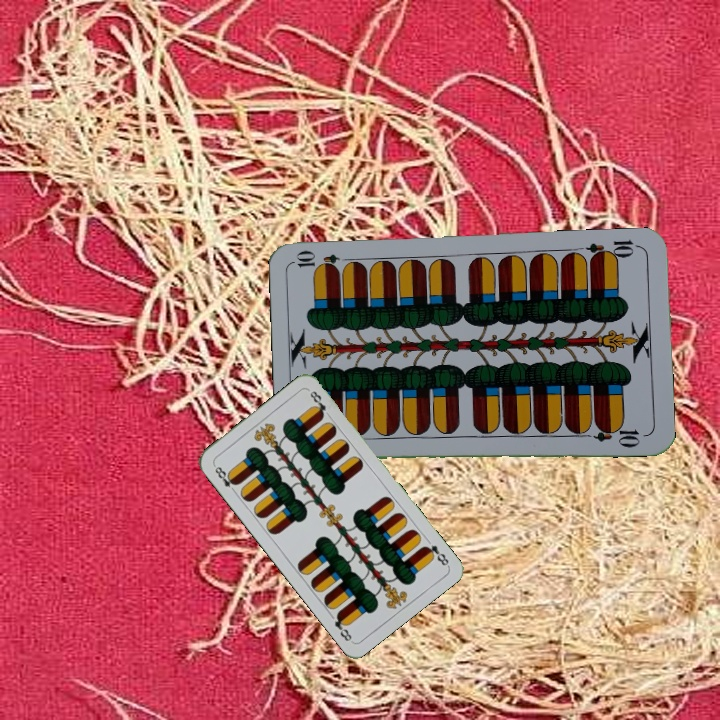E10: (583, 236, 642, 263)
E8: (210, 461, 240, 496), (419, 541, 451, 569)
